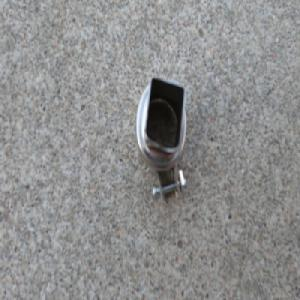MetalPart: (133, 74, 188, 211)
